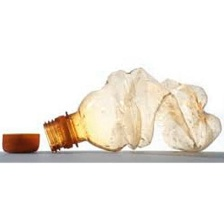bottle: (38, 65, 222, 156)
